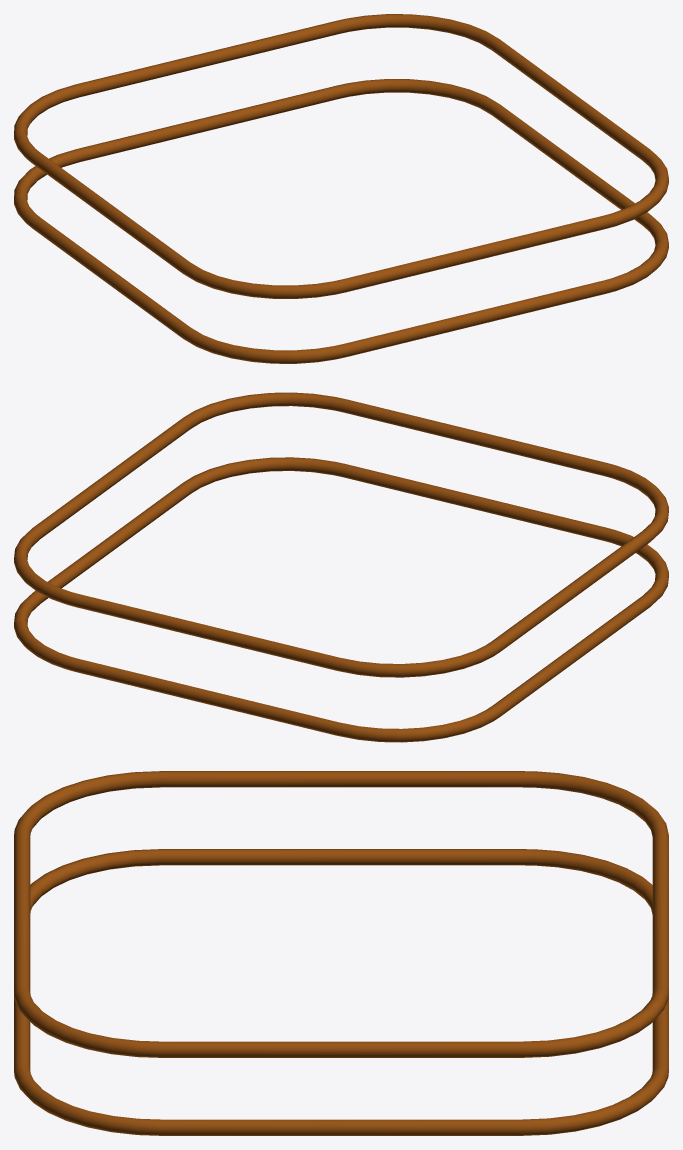
Rendered from Tubes.fbx.
3 renders of one model, top to bottom at view 1: azimuth 30°, elevation 25°; view 2: azimuth 150°, elevation 25°; view 3: azimuth 270°, elevation 25°, orthographic. The views are drawn at different scales.
Parts seen in each view (by area): view 1: Tubes.001; view 2: Tubes.001; view 3: Tubes.001.
Boxes of the visible parts, box(x1,y1,x2,y2) form: Tubes.001: box(14, 14, 668, 363); Tubes.001: box(14, 392, 668, 742); Tubes.001: box(14, 771, 668, 1135).
Bounding box in the file's own units: 241 × 37.72 × 241.
